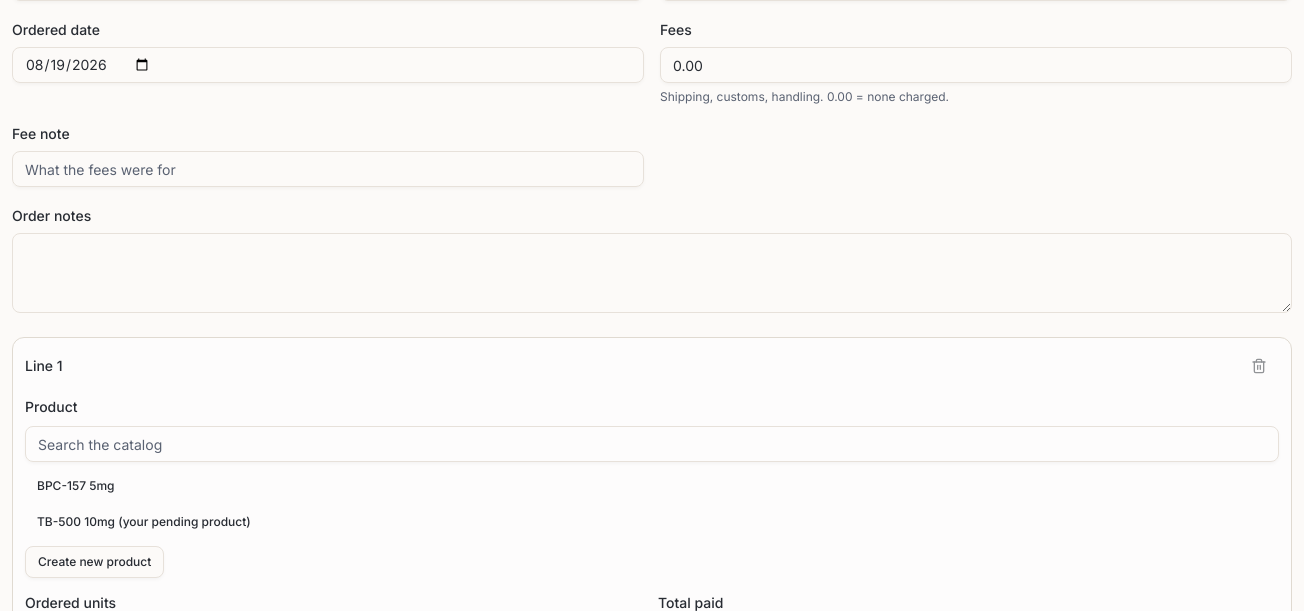
it: lines › the footer totals the LINES and says the fees are separate
Type "BPC" into the field with test id "product-search-0" at coordinates (652, 444), box [25, 426, 1279, 462]
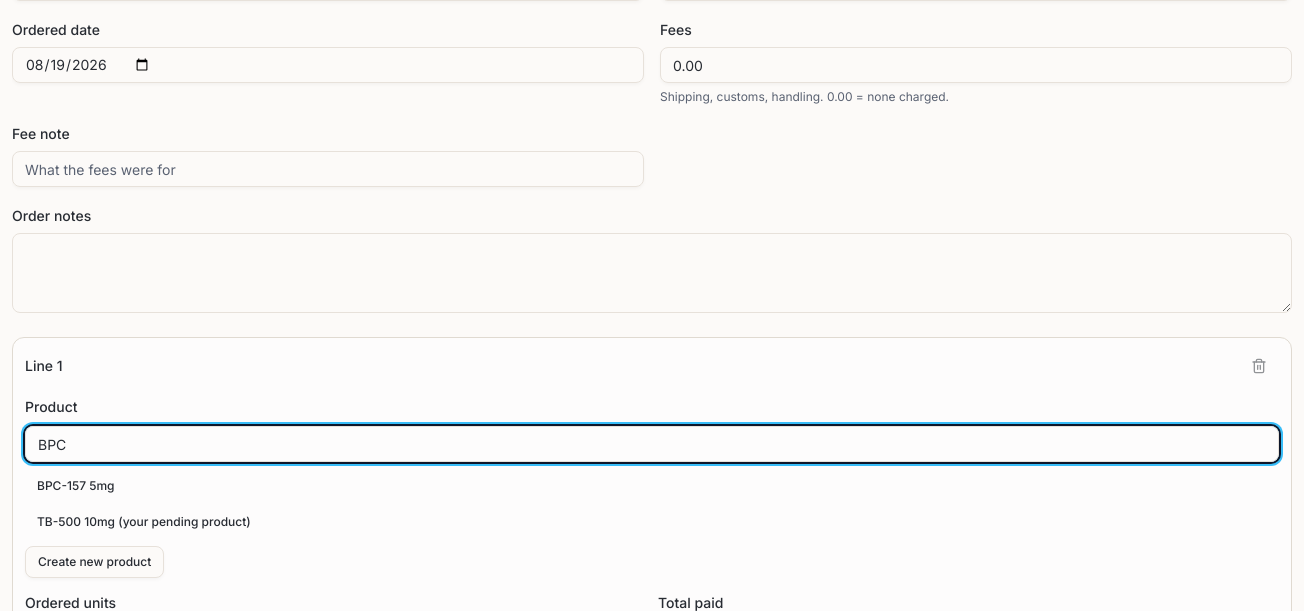
Click the button "BPC-157 5mg" at coordinates (76, 486), box [25, 470, 1279, 502]
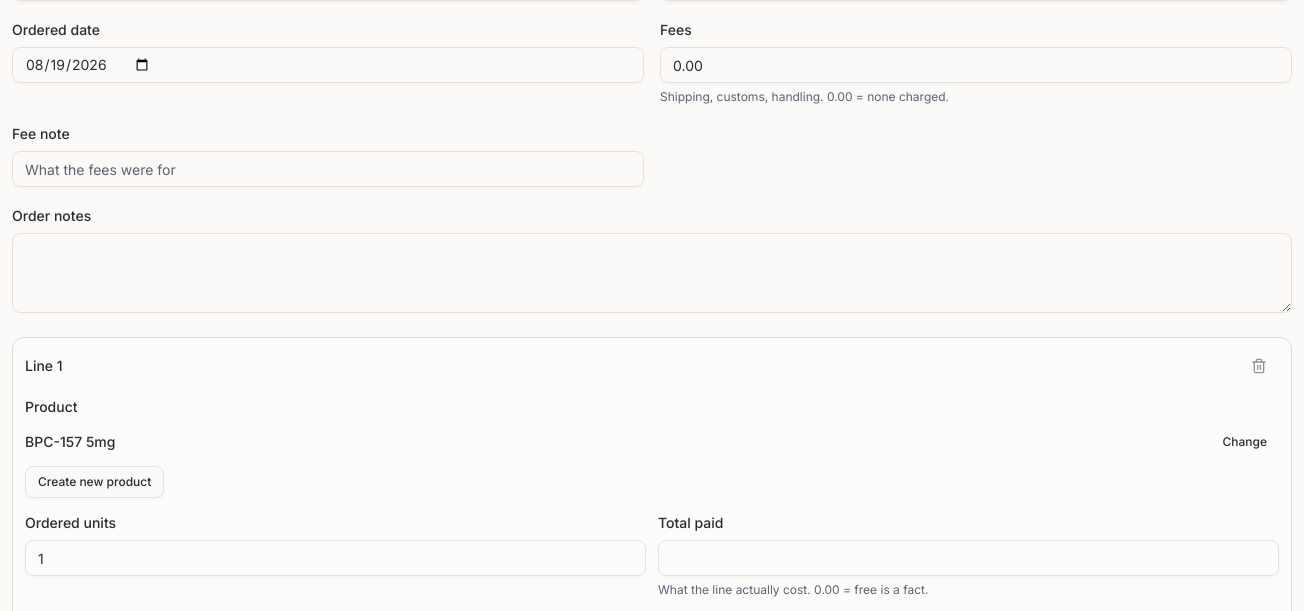
Replace the text in the field with test id "ordered-units-0" with "2" at coordinates (336, 558), box [25, 540, 646, 576]
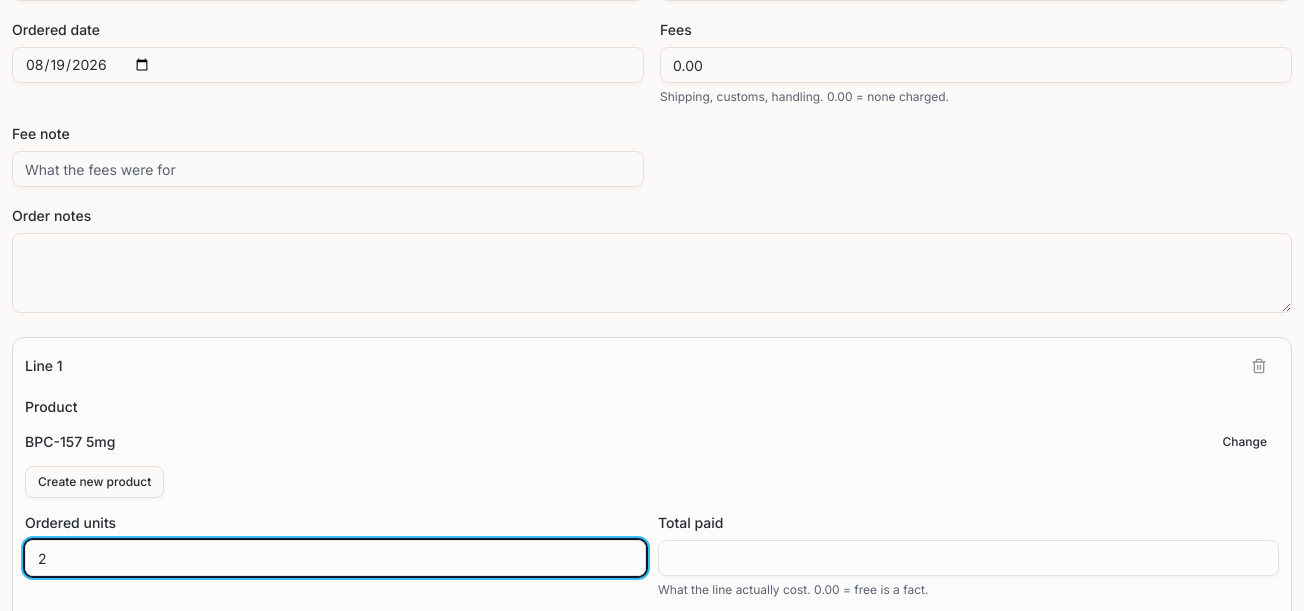
Type "25.50" into the field with test id "total-paid-0" at coordinates (968, 558), box [658, 540, 1279, 576]
(page scrolled)
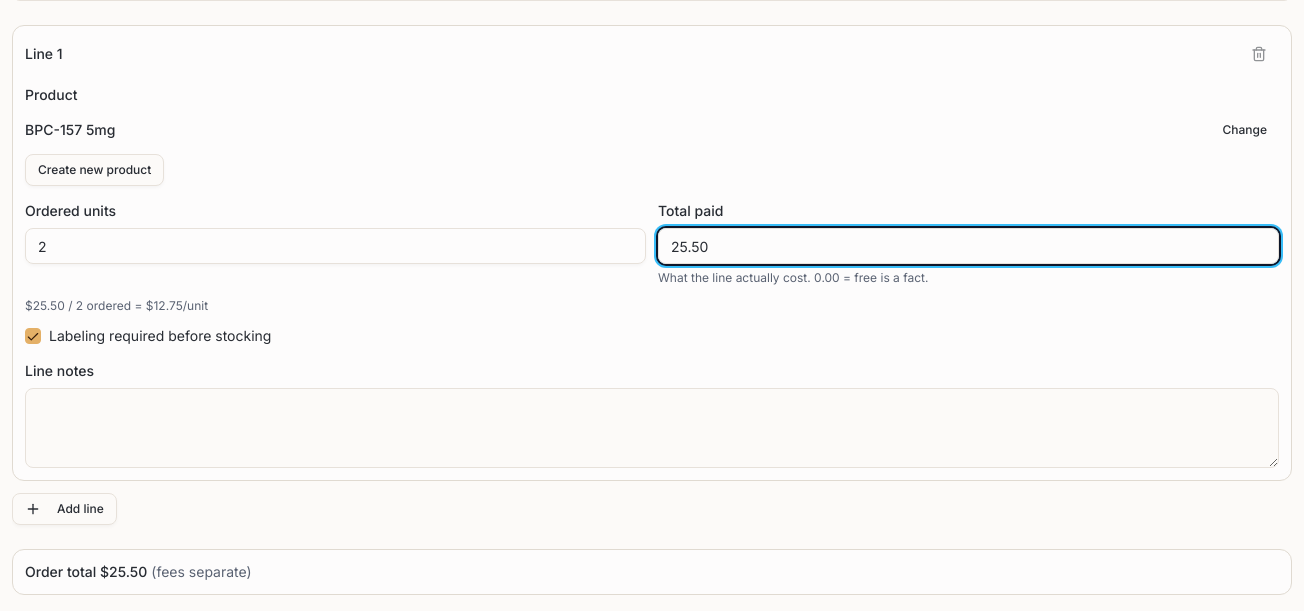
Check: the element with test id "order-total" shows "fees separate", box [147, 563, 252, 580]
Check: the element with test id "order-total" shows "$25.50", box [25, 563, 147, 580]
